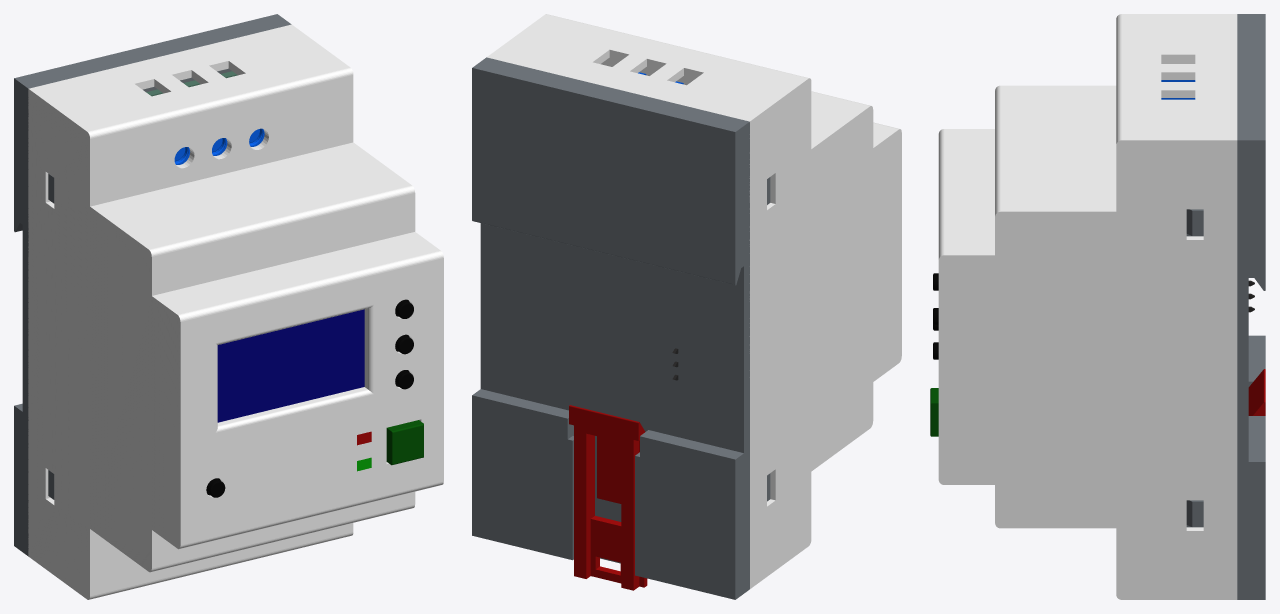
The model's file is din-rail-enclosure-full.glb.
3 views of the same model, side by side, from view 1: azimuth 30°, elevation 25°; view 2: azimuth 150°, elevation 25°; view 3: azimuth 270°, elevation 25° (orthographic).
Size of the model in its own units: 53.01 by 93 by 59.5.
